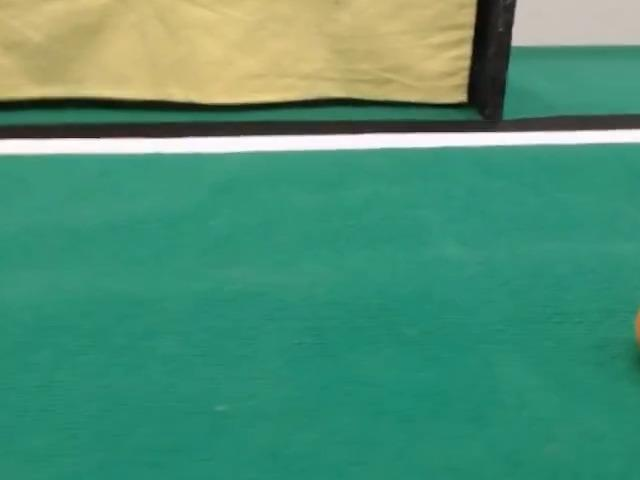Ball: (636, 311, 639, 344)
